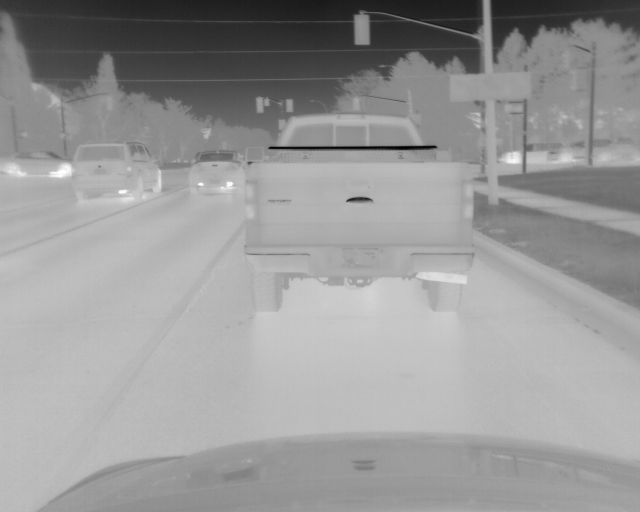car: (243, 109, 474, 317), (69, 141, 163, 202), (187, 150, 245, 192), (1, 148, 73, 179), (568, 137, 638, 167), (500, 138, 573, 165)
